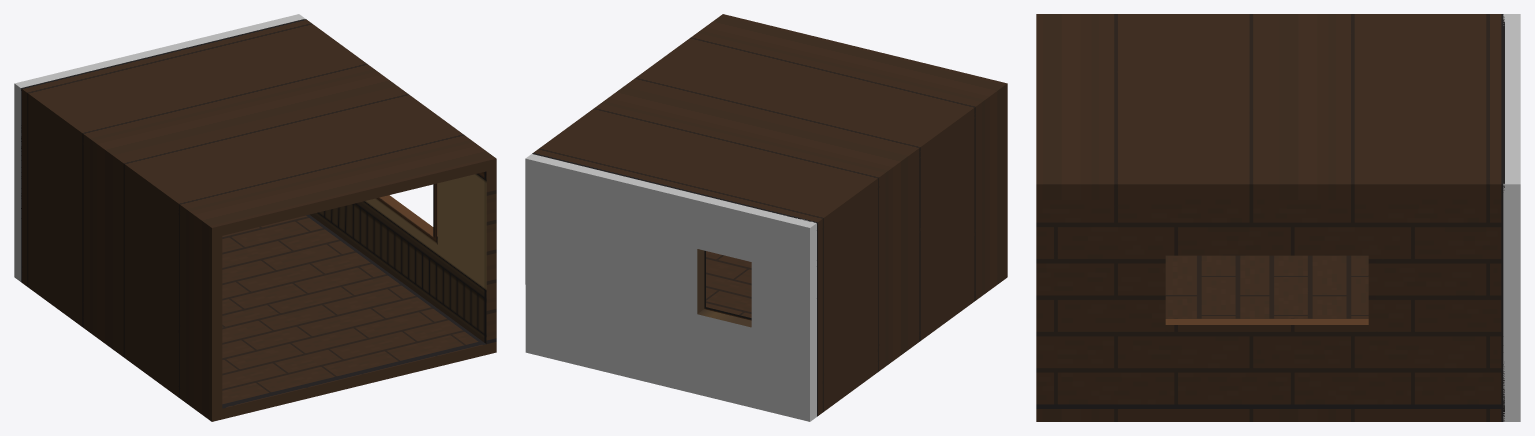
Rendered from Room.fbx.
The picture shows the model from 3 angles, left to right: view 1: azimuth 30°, elevation 25°; view 2: azimuth 150°, elevation 25°; view 3: azimuth 270°, elevation 25°; orthographic projection. The views are drawn at different scales.
Parts seen in each view (by area): view 1: polySurface9, Floor, WindowWall, WallFront, BlindsAndInside, WindowBorder; view 2: polySurface9, WallFront, Floor; view 3: polySurface9, Floor, WallFront, BlindsAndInside.
Boxes of the visible parts, x1,y1,x2,y2 form: polySurface9: (21, 19, 496, 421); Floor: (222, 214, 485, 408); WindowWall: (310, 171, 486, 343); WallFront: (14, 14, 305, 281); BlindsAndInside: (380, 183, 437, 236); WindowBorder: (374, 183, 436, 244); polySurface9: (532, 14, 1007, 416); WallFront: (525, 154, 816, 421); Floor: (706, 251, 751, 317); polySurface9: (1036, 14, 1504, 421); Floor: (1165, 255, 1368, 318); WallFront: (1503, 14, 1520, 421); BlindsAndInside: (1165, 319, 1368, 324).
Bounding box in the file's own units: 106 × 69.29 × 128.
